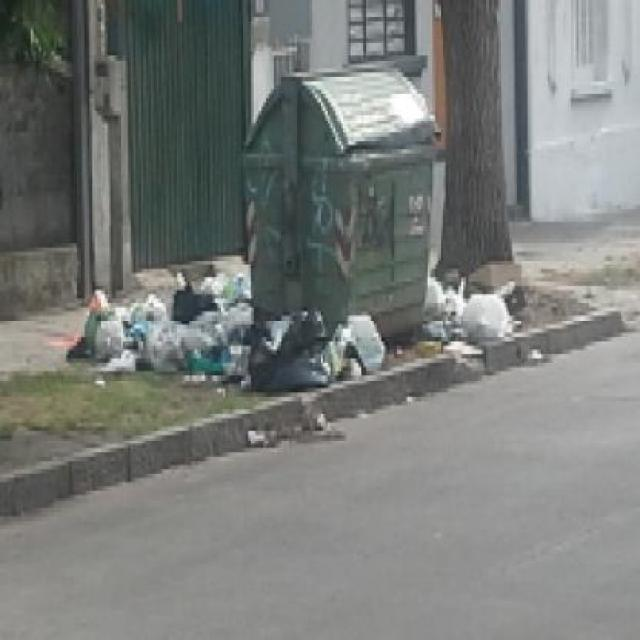garbage: (73, 265, 252, 368), (239, 313, 390, 402), (426, 260, 523, 354)
